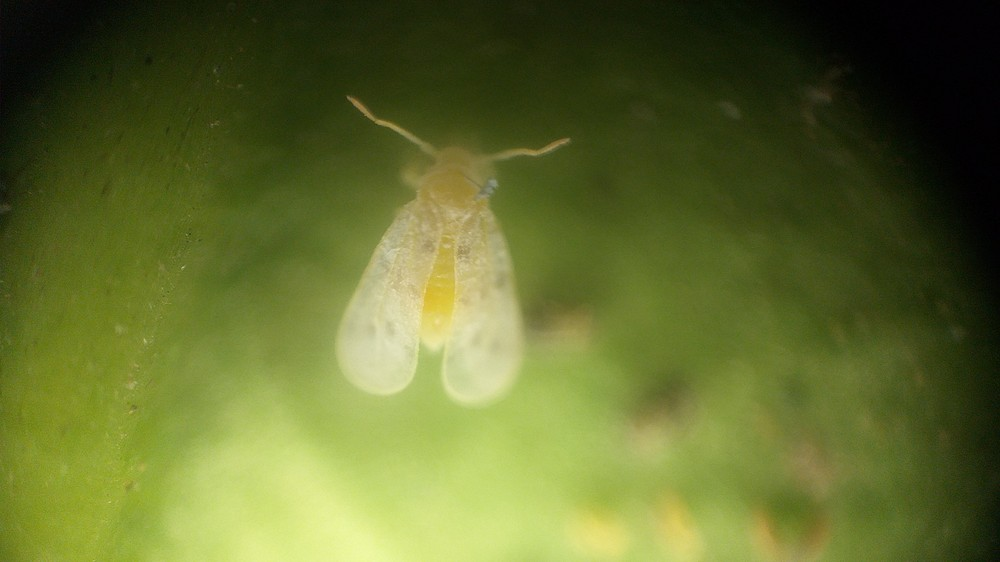Mosca Blanca: (303, 80, 592, 426)
